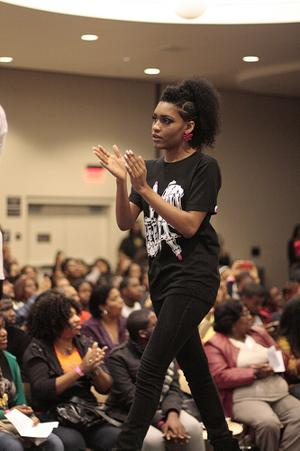person: (91, 74, 245, 450)
